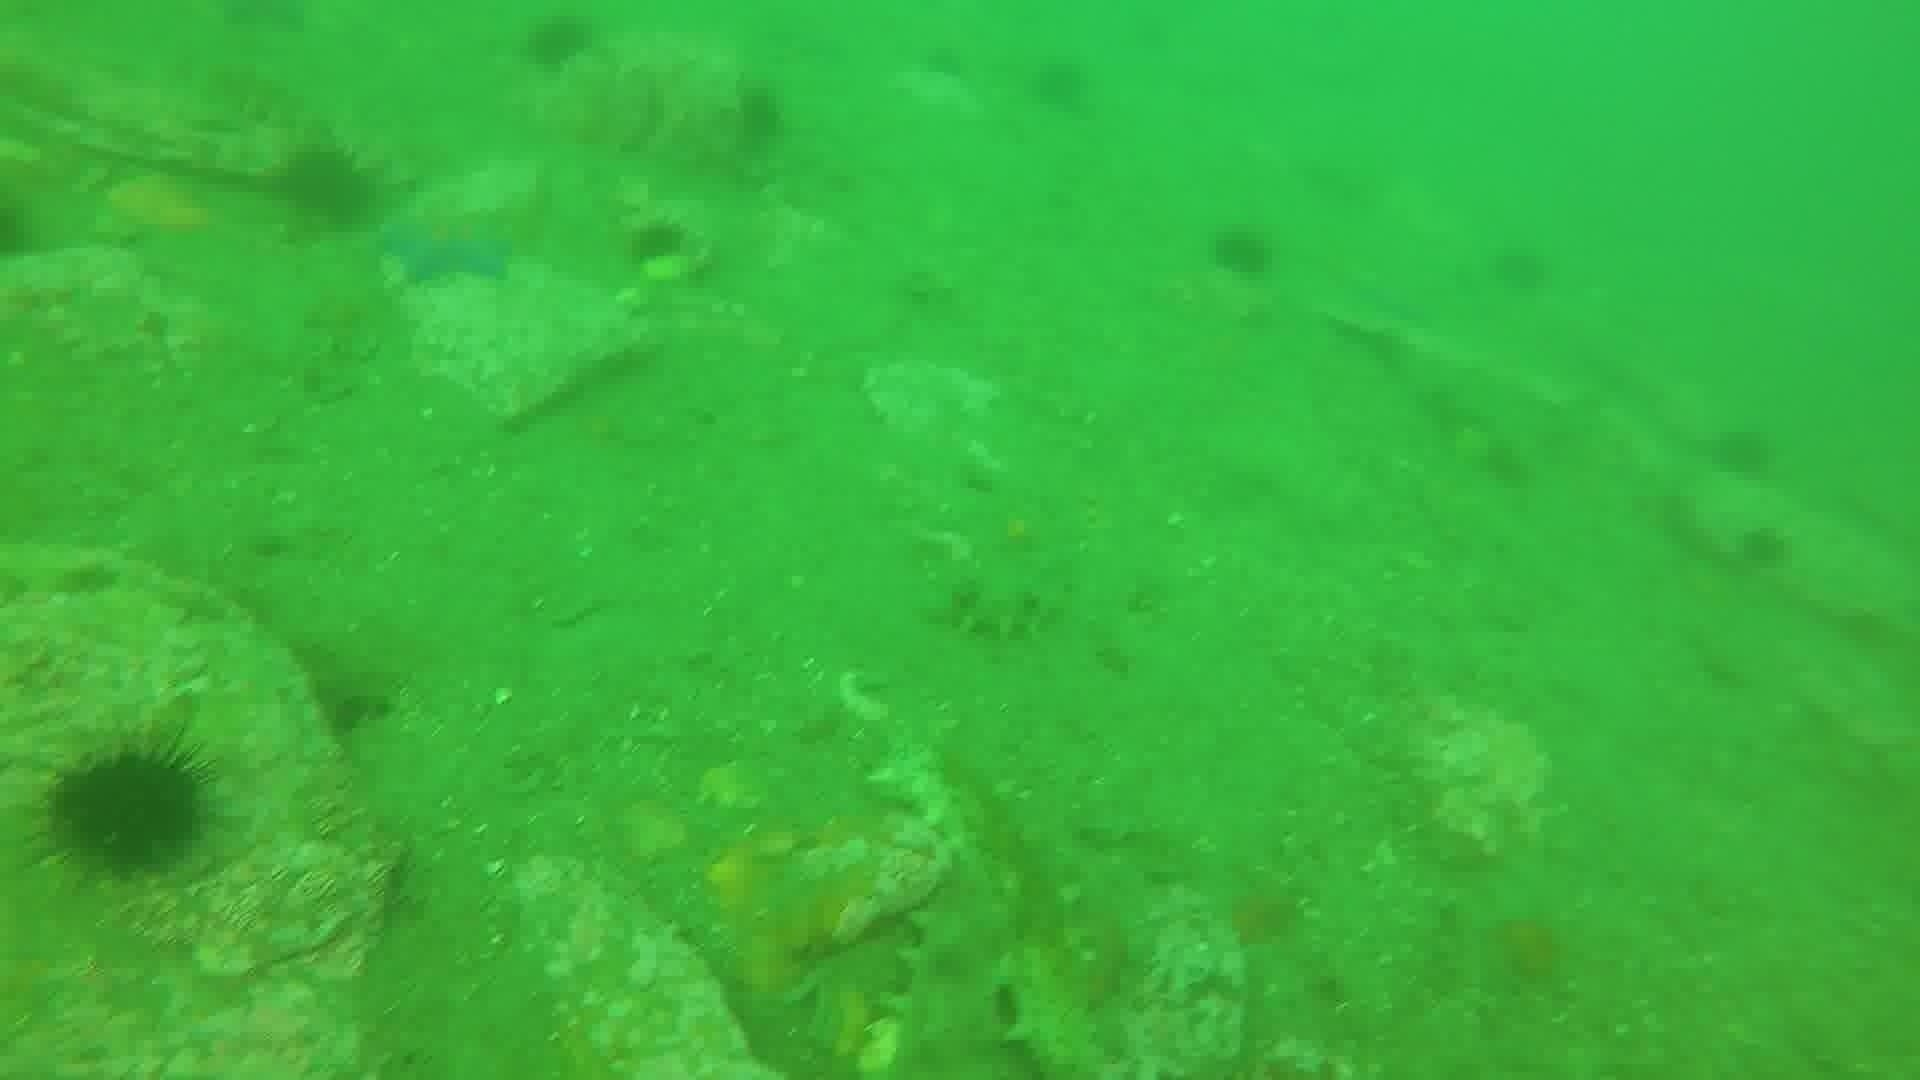echinus: (40, 733, 216, 882), (272, 140, 381, 232), (517, 11, 600, 76), (723, 78, 793, 156), (1025, 53, 1098, 117), (1205, 222, 1279, 284), (1706, 422, 1780, 484), (1486, 237, 1555, 297), (622, 214, 687, 272), (1733, 520, 1795, 574)
holothurian: (913, 746, 1134, 1080), (878, 853, 1025, 1075), (919, 570, 1073, 647), (196, 61, 340, 140)
starfish: (376, 200, 520, 291)
